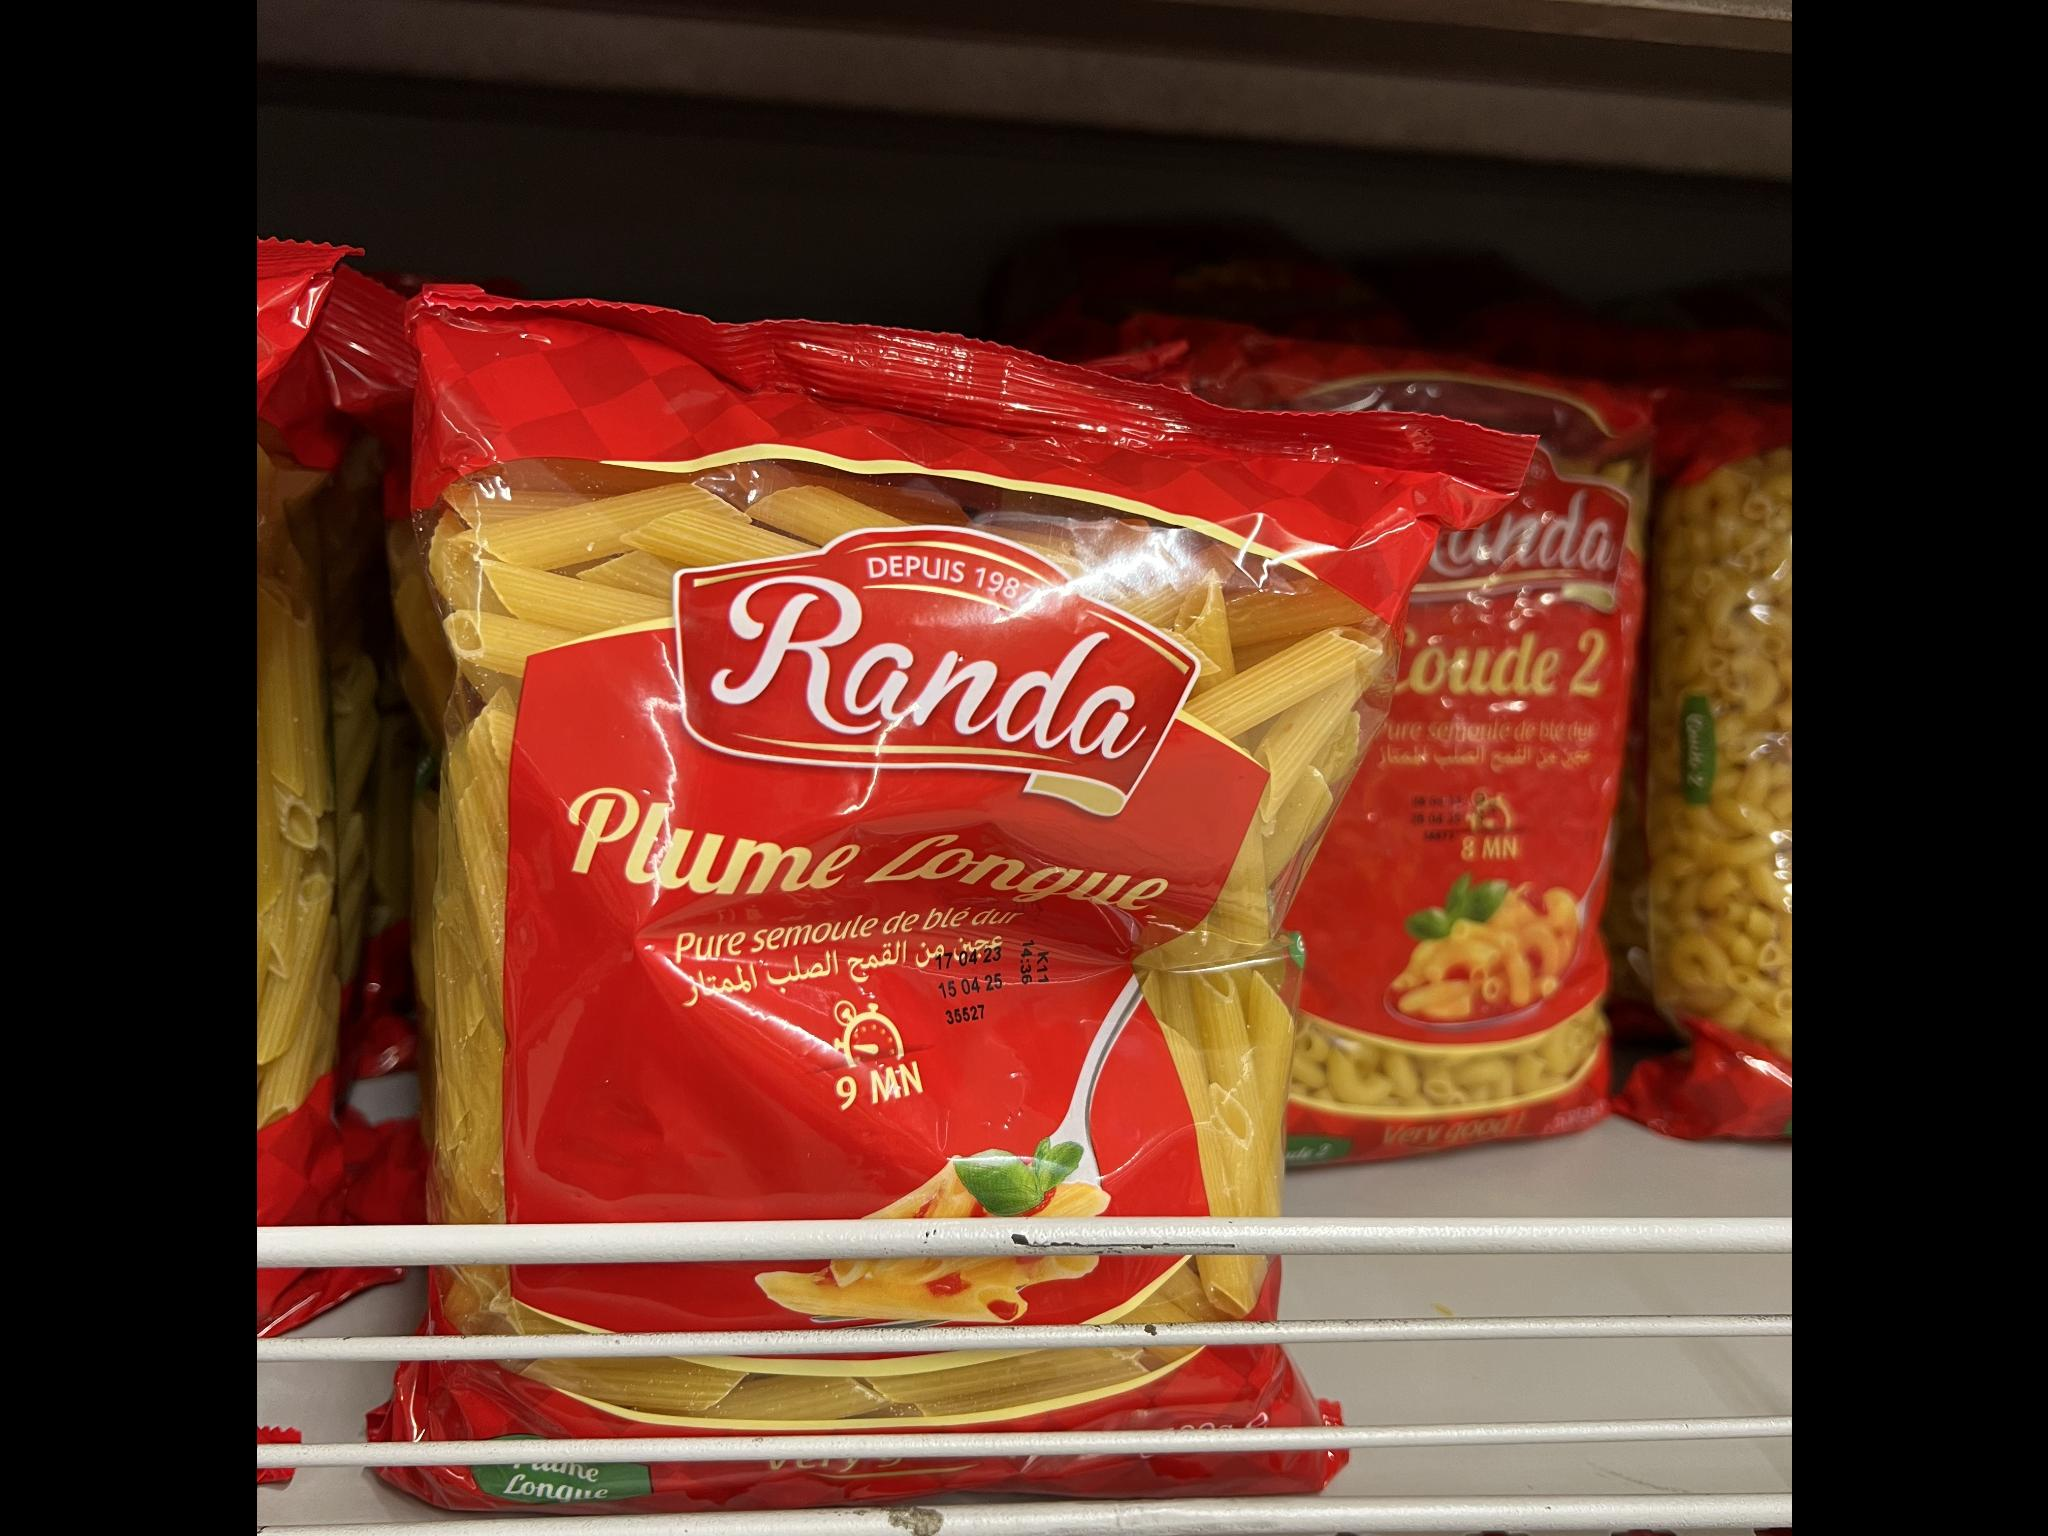plume: (334, 416, 1419, 1492)
